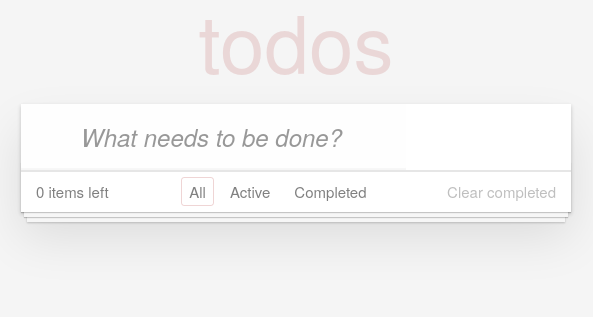
it: отображает количество активных задач
Type "Активная задача" into the field with placeholder "What needs to be done?".
click(214, 137); type("Активная задача")  # box x1=21 y1=104 x2=406 y2=170
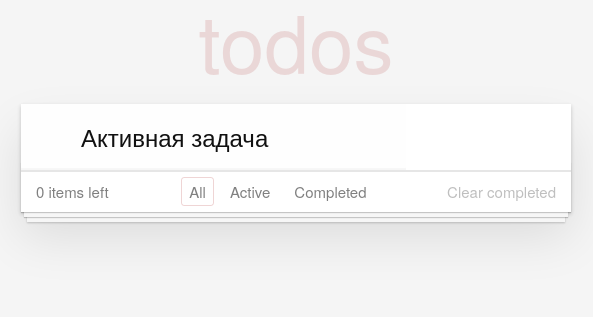
Submit the form with placeholder "What needs to be done?", box x1=21 y1=104 x2=406 y2=170
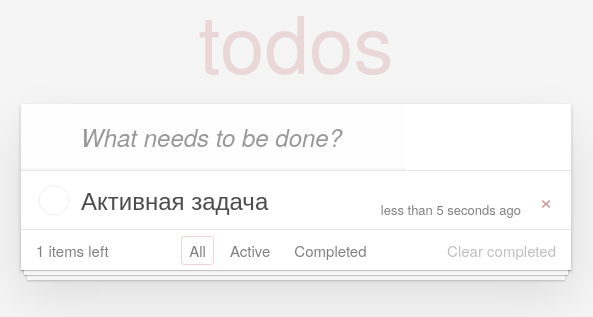
Expected: the text "1 items left" is shown, x1=36 y1=241 x2=109 y2=260
